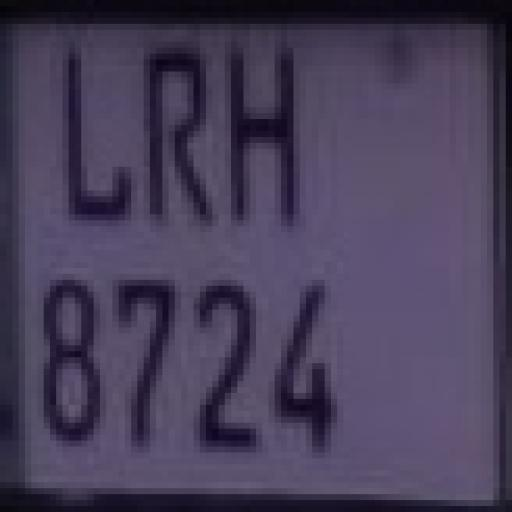2: (190, 273, 267, 459)
4: (272, 276, 353, 458)
7: (110, 270, 178, 462)
8: (36, 273, 106, 447)
H: (229, 38, 300, 236)
L: (39, 41, 138, 224)
R: (147, 43, 222, 241)
